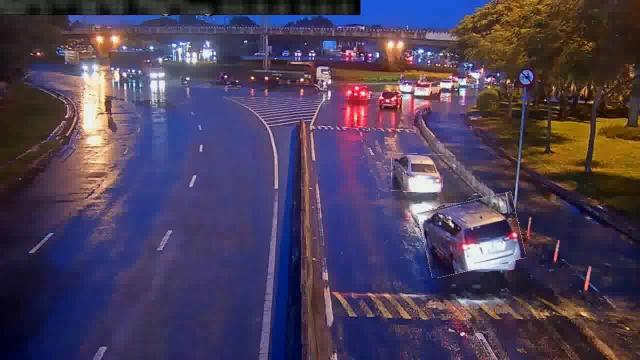Car: (421, 197, 523, 274), (392, 154, 442, 192)
